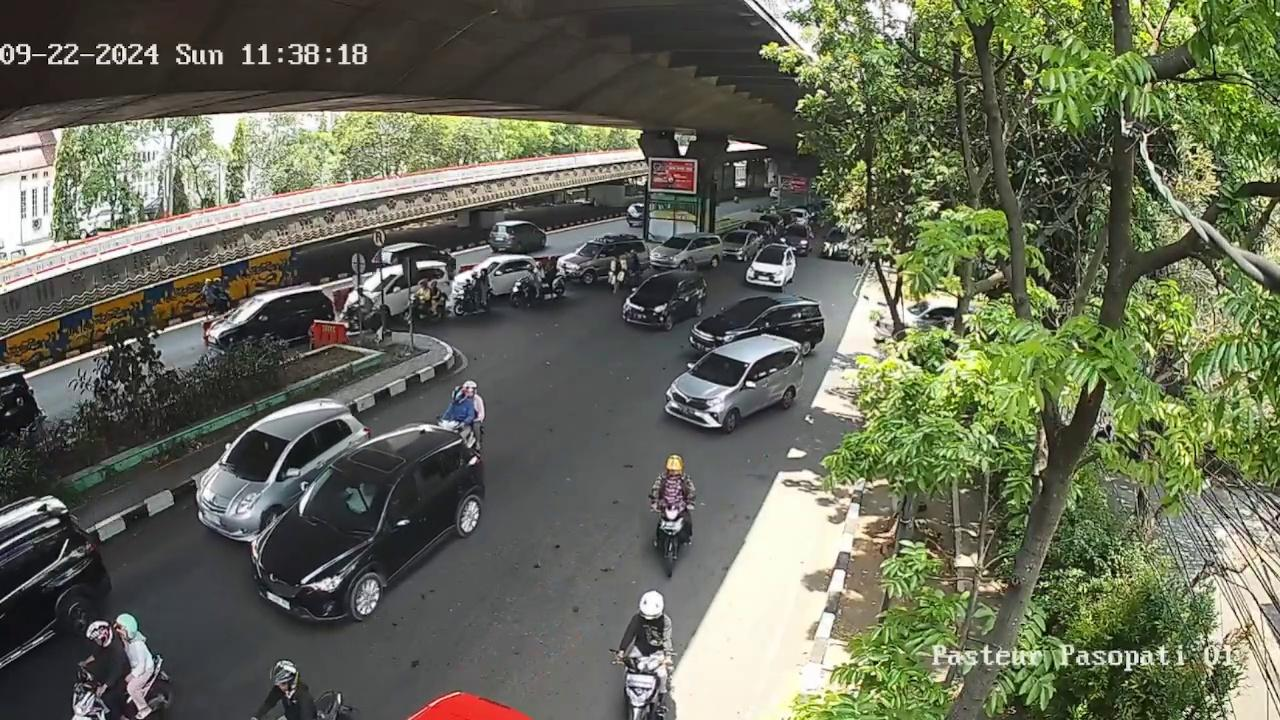pakai: (340, 481, 372, 519)
windshield: (290, 462, 397, 530), (219, 432, 284, 482), (690, 353, 746, 390), (632, 278, 676, 298), (757, 250, 786, 266)
